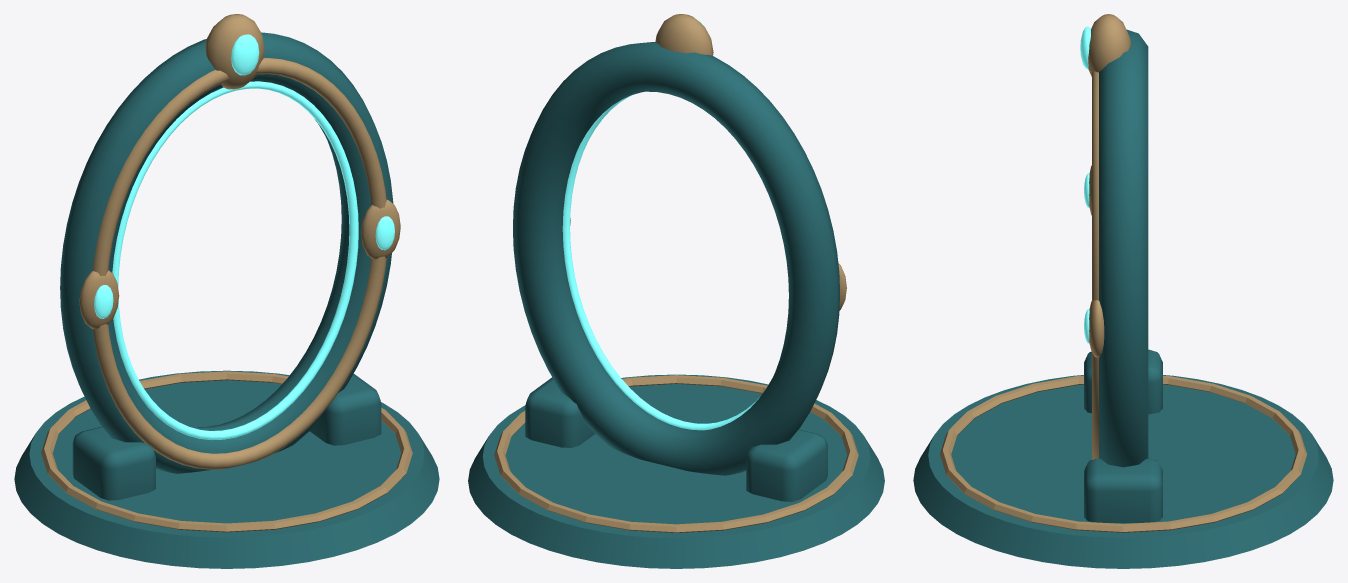
Rendered from portail.glb.
3 renders of one model, left to right at view 1: azimuth 30°, elevation 25°; view 2: azimuth 150°, elevation 25°; view 3: azimuth 270°, elevation 25°, orthographic.
Parts seen in each view (by area): view 1: turquoise, cuivre, cristal; view 2: turquoise, cuivre, cristal; view 3: turquoise, cuivre, cristal.
Part boxes in pixels (x1,y1,x2,y2): turquoise: (14, 32, 439, 568); cuivre: (41, 14, 412, 532); cristal: (94, 34, 394, 440); turquoise: (468, 42, 884, 568); cuivre: (494, 14, 858, 532); cristal: (562, 20, 760, 430); turquoise: (913, 29, 1333, 568); cuivre: (940, 14, 1306, 532); cristal: (1080, 26, 1090, 343).
Bounding box in the file's own units: 1.7 × 2.07 × 1.7.
